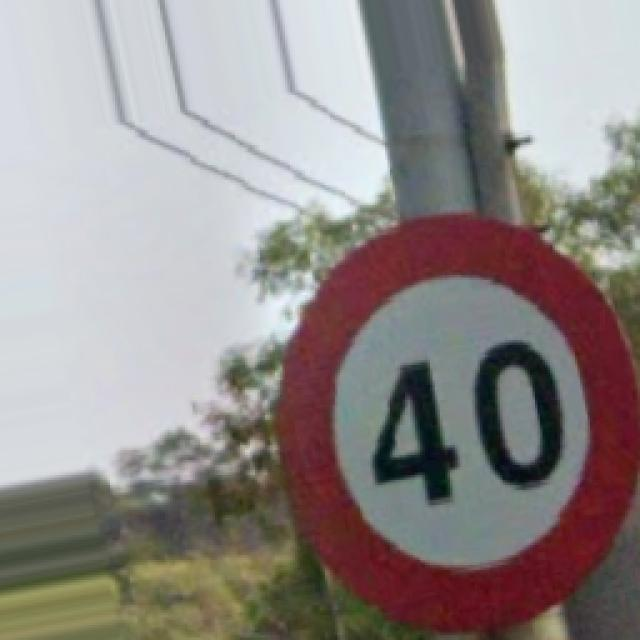Speed Limit -40-: (280, 215, 638, 630)
